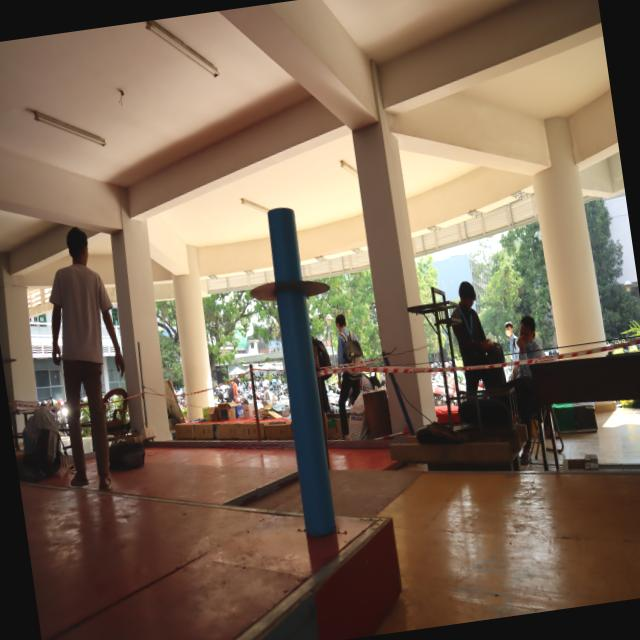pole: (229, 195, 342, 372)
